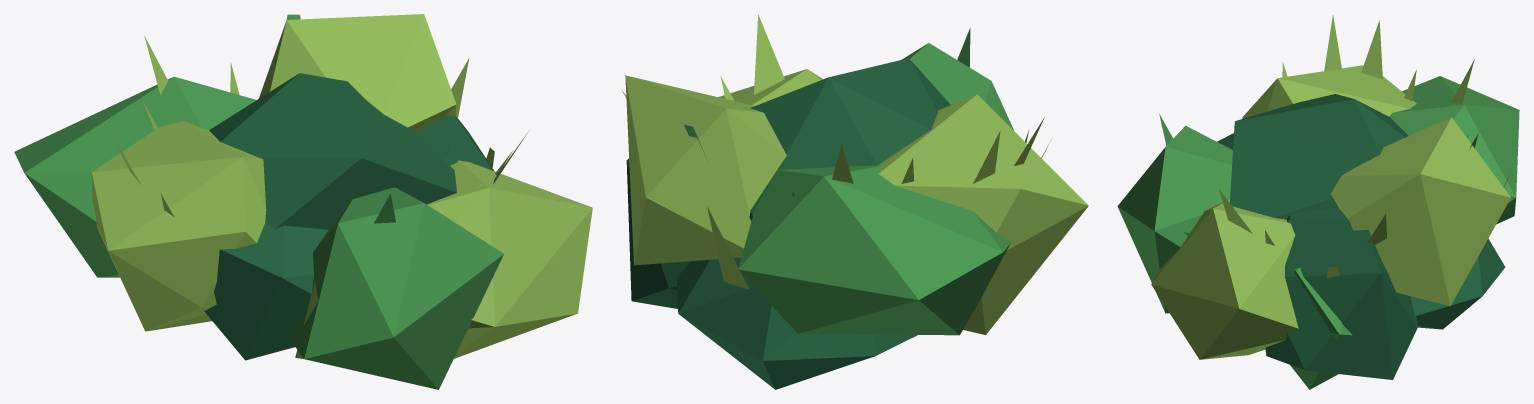
File: plant_bush_lod2.glb
The picture shows the model from 3 angles, left to right: view 1: azimuth 30°, elevation 25°; view 2: azimuth 150°, elevation 25°; view 3: azimuth 270°, elevation 25°; orthographic projection. The views are drawn at different scales.
Visible parts, largest first — view 1: Bush leaf mass.001; view 2: Bush leaf mass.001; view 3: Bush leaf mass.001.
Boxes of the visible parts, bbox=[...] form: Bush leaf mass.001: bbox=[14, 14, 592, 389]; Bush leaf mass.001: bbox=[622, 15, 1088, 389]; Bush leaf mass.001: bbox=[1117, 15, 1519, 389].
Bounding box in the file's own units: 1.79 × 1.13 × 1.65.
